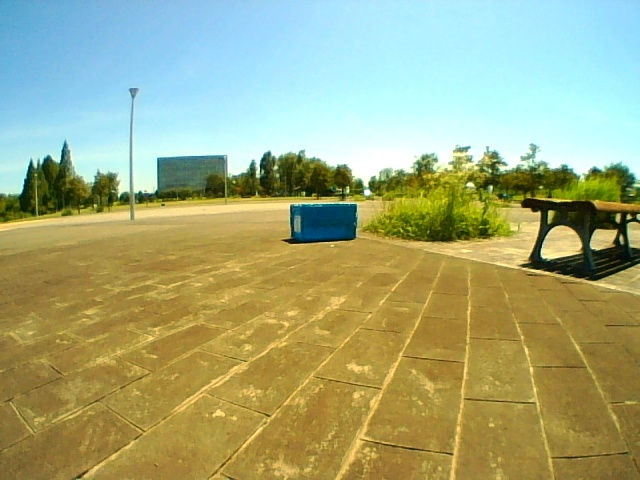blue_box: (291, 205, 356, 242)
tag: (293, 216, 300, 233)
